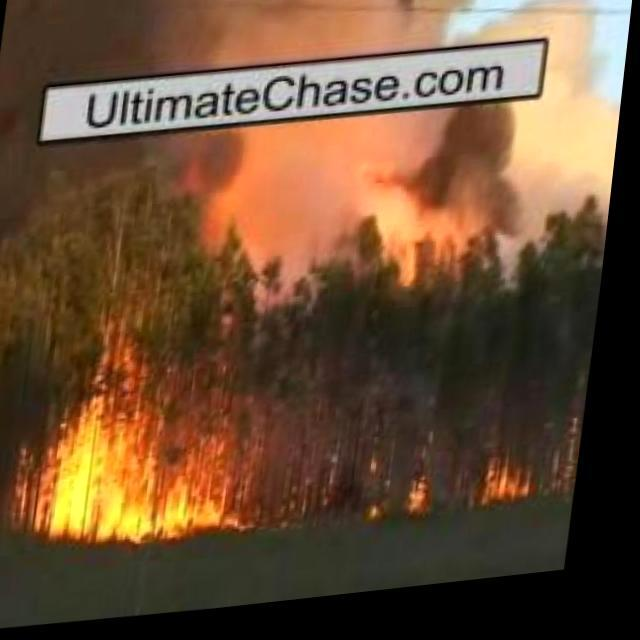fire: (64, 392, 262, 548), (488, 466, 544, 522), (412, 482, 443, 526)
